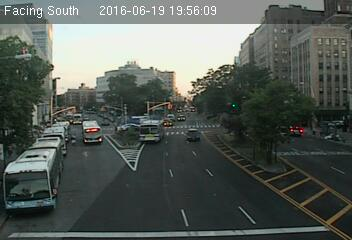neg: (104, 166, 125, 193), (146, 170, 166, 196), (157, 56, 176, 82), (35, 129, 54, 154), (86, 78, 105, 102), (189, 52, 207, 76), (121, 66, 139, 90), (302, 166, 320, 190), (52, 90, 69, 114), (285, 56, 302, 79), (91, 127, 108, 149), (150, 122, 165, 142), (253, 145, 268, 165), (244, 56, 259, 75), (23, 48, 37, 68), (272, 103, 286, 122), (213, 183, 226, 202), (227, 125, 240, 143), (321, 126, 334, 143), (264, 192, 277, 208), (61, 40, 73, 55), (33, 176, 44, 192), (62, 181, 73, 196), (182, 131, 193, 145)
